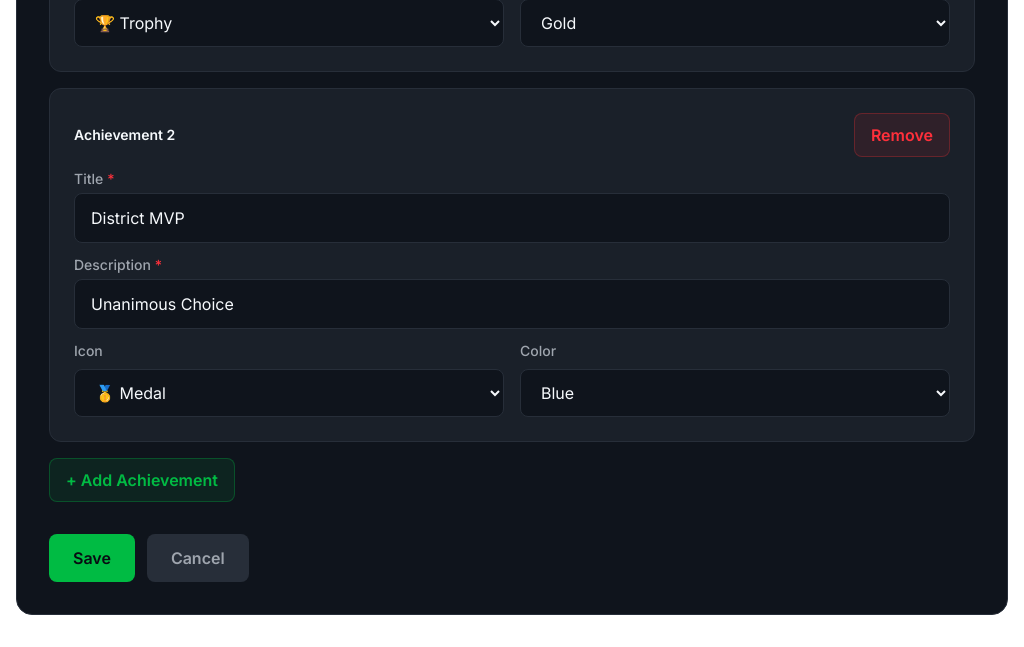
Test: AthleticAchievementsSection - Inline Editing › Form Data Management › allows adding new achievements
(page scrolled)
Click the button "+ Add Achievement" at (142, 480), box [49,458,235,502]
(page scrolled)
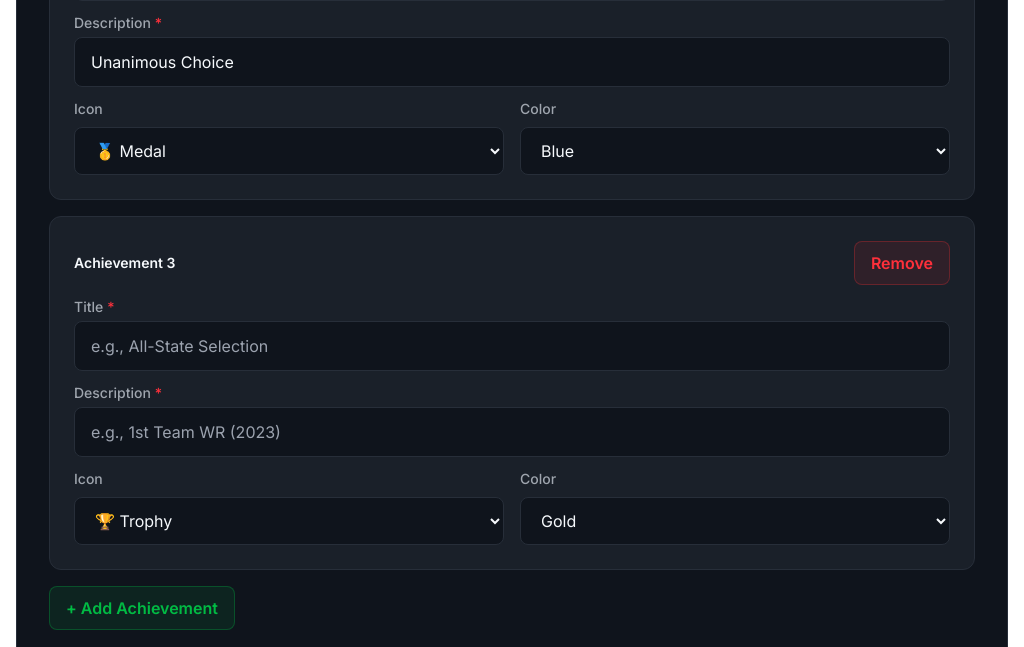
Result: the heading "Achievement 3" is shown at [74,253,176,273]
